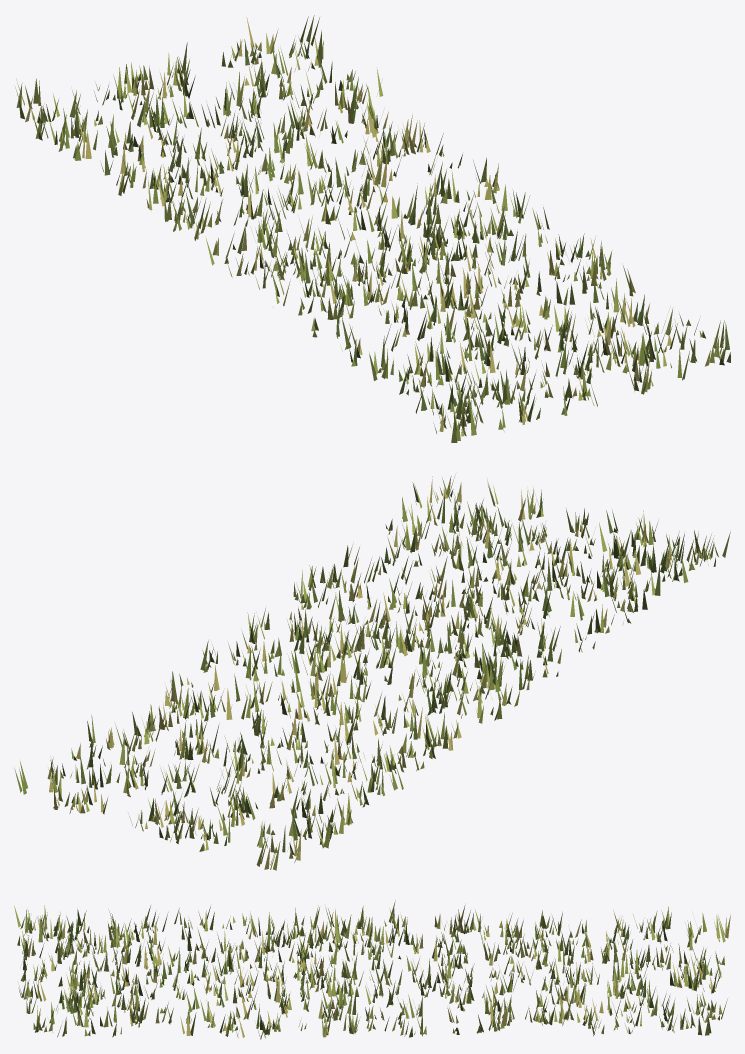
Rendered from Meadow_GrassPatch_01.obj.
The picture shows the model from 3 angles, top to bottom: view 1: azimuth 30°, elevation 25°; view 2: azimuth 150°, elevation 25°; view 3: azimuth 270°, elevation 25°; orthographic projection. The views are drawn at different scales.
Parts seen in each view (by area): view 1: Meadow_GrassPatch_01; view 2: Meadow_GrassPatch_01; view 3: Meadow_GrassPatch_01.
Boxes of the visible parts, bbox=[...] form: Meadow_GrassPatch_01: bbox=[15, 15, 730, 442]; Meadow_GrassPatch_01: bbox=[14, 475, 730, 870]; Meadow_GrassPatch_01: bbox=[14, 900, 730, 1039].
Size of the model in its own units: 3.56 by 0.4271 by 9.17.
1 material, 1 textured.
